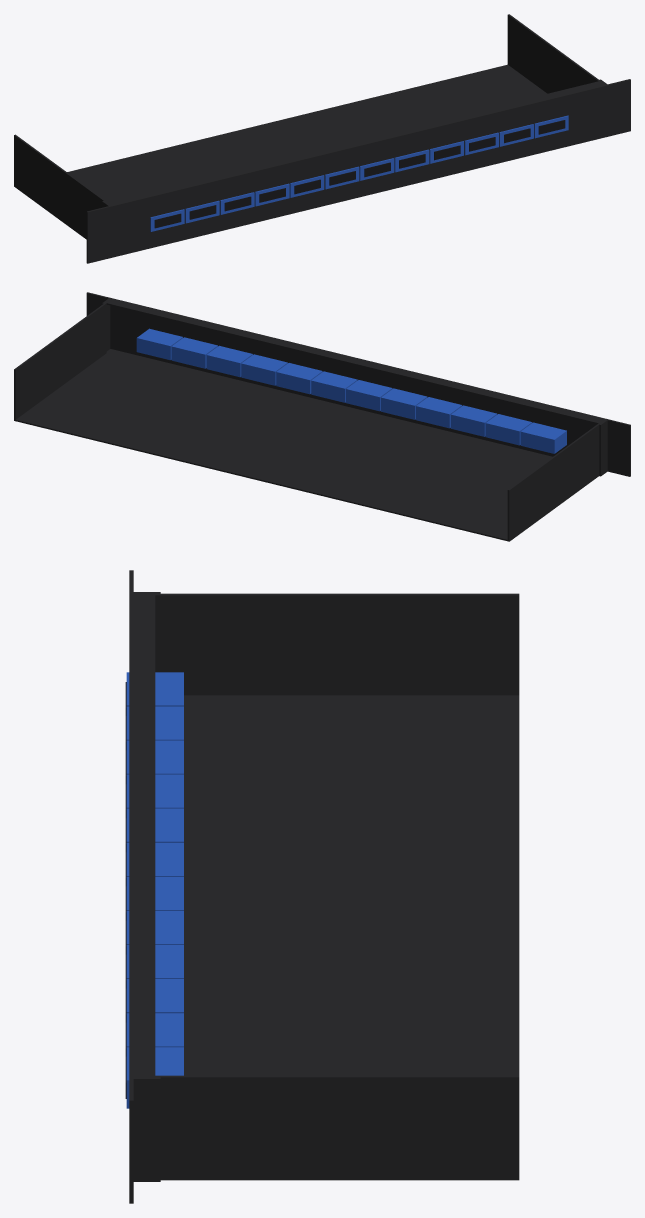
Rendered from FP-SC-12.far.glb.
The picture shows the model from 3 angles, top to bottom: view 1: azimuth 30°, elevation 25°; view 2: azimuth 150°, elevation 25°; view 3: azimuth 270°, elevation 25°; orthographic projection. The views are drawn at different scales.
Visible parts, largest first — view 1: FP-SC-12_Body_far; view 2: FP-SC-12_Body_far; view 3: FP-SC-12_Body_far.
Part boxes in pixels (x1,y1,x2,y2): FP-SC-12_Body_far: (14, 14, 630, 263); FP-SC-12_Body_far: (14, 292, 630, 541); FP-SC-12_Body_far: (125, 570, 519, 1203).
Bounding box in the file's own units: 0.4826 × 0.0437 × 0.1515.
1 material, 1 textured.
